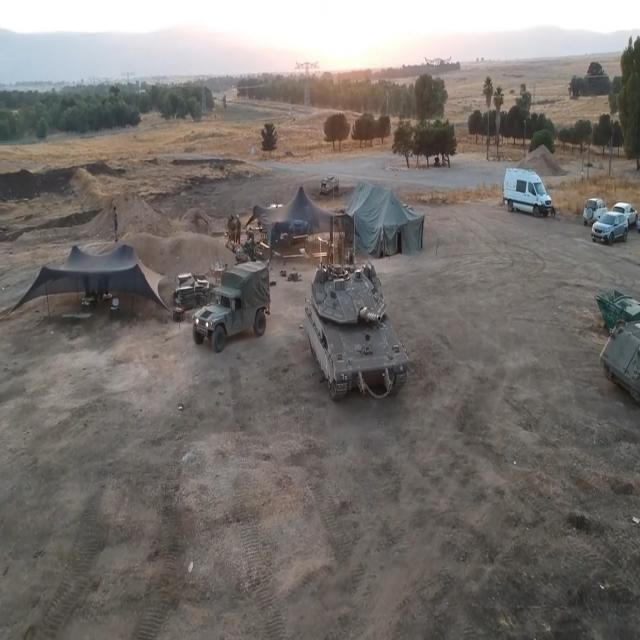tank: (302, 260, 419, 422)
